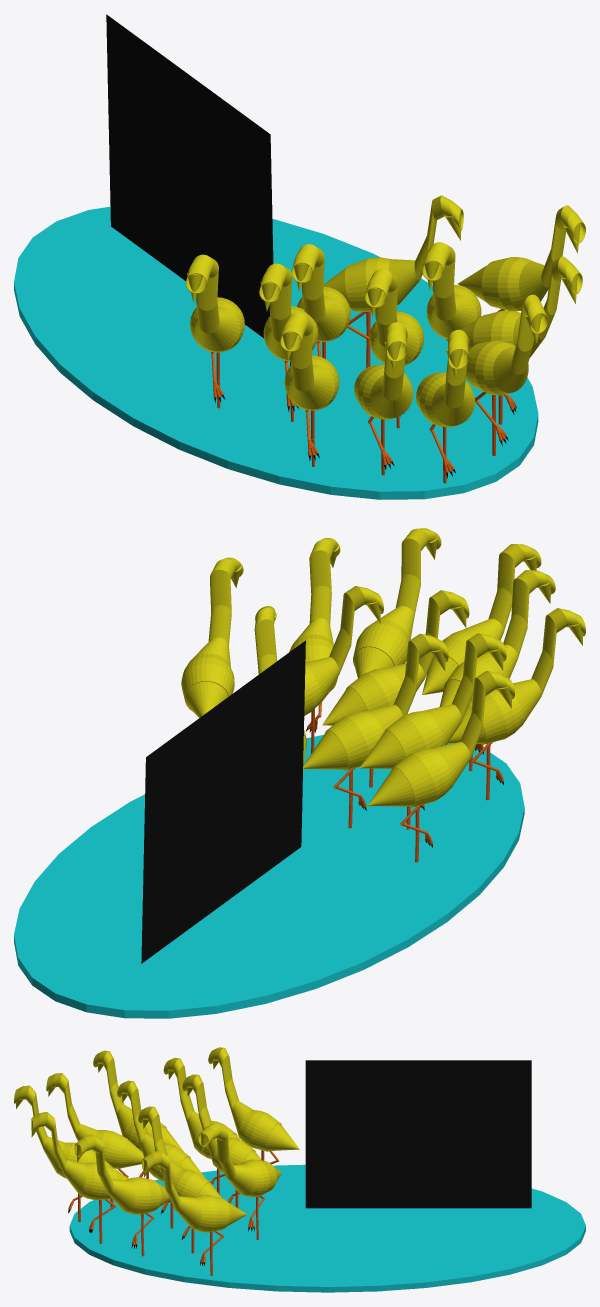
The model's file is float15.fbx.
3 views of the same model, one above another, from view 1: azimuth 30°, elevation 25°; view 2: azimuth 150°, elevation 25°; view 3: azimuth 270°, elevation 25° (orthographic). The views are drawn at different scales.
Visible parts, largest first — view 1: Cylinder.001; view 2: Cylinder.001; view 3: Cylinder.001.
Part boxes in pixels (x1,y1,x2,y2): Cylinder.001: [14, 14, 585, 499]; Cylinder.001: [14, 528, 585, 1018]; Cylinder.001: [14, 1047, 585, 1292].
Bounding box in the file's own units: 742 × 462 × 1462.
